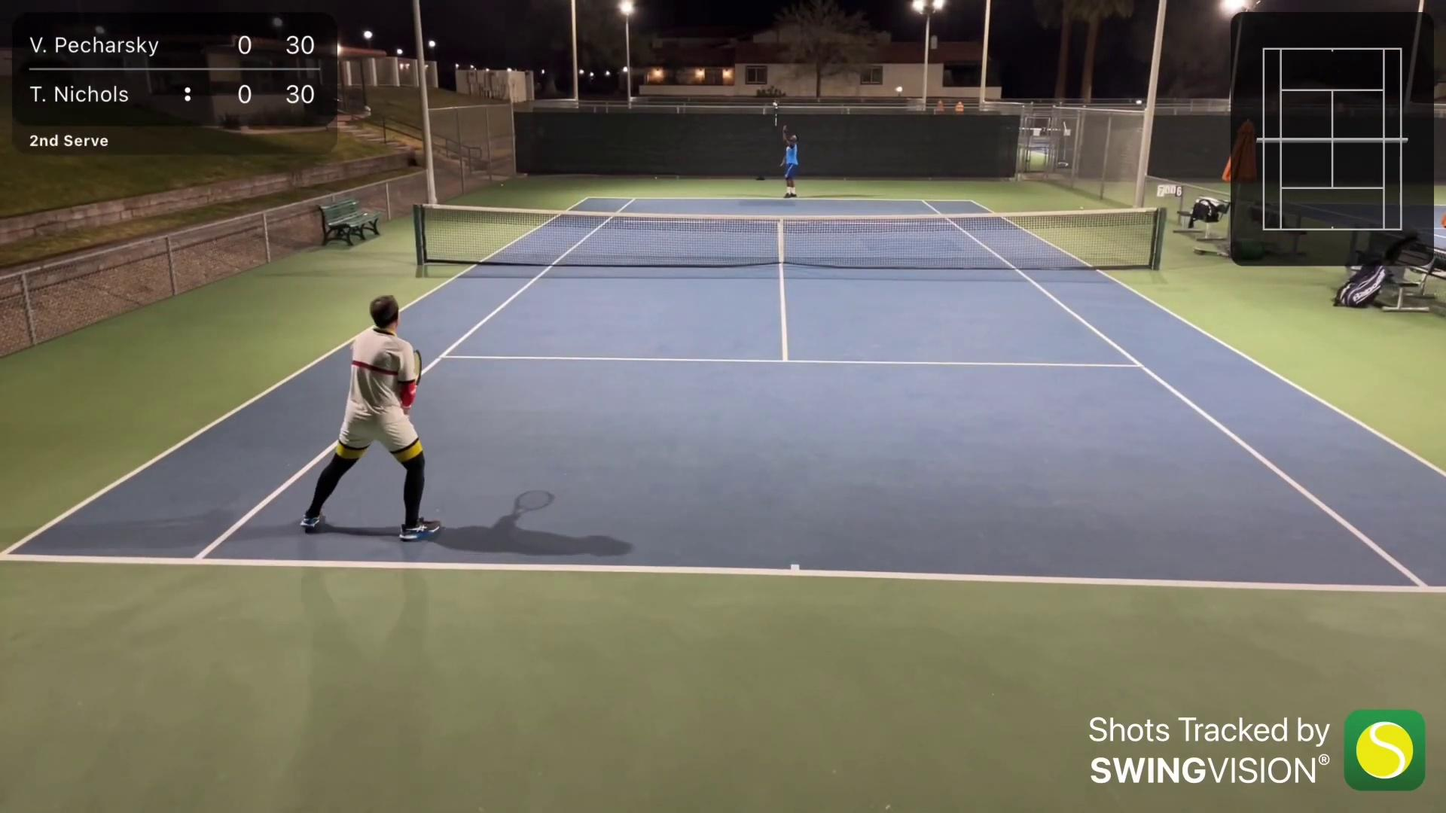ball: (771, 100, 778, 107), (499, 181, 505, 188), (654, 175, 659, 181)
